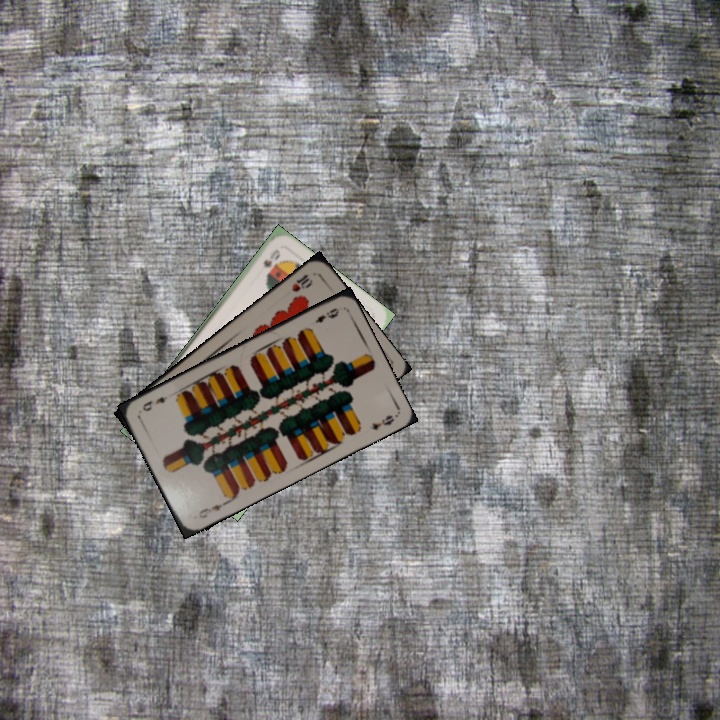E9: (194, 498, 229, 521), (311, 304, 342, 326)
H10: (287, 270, 315, 295)
SO: (259, 245, 283, 271)
